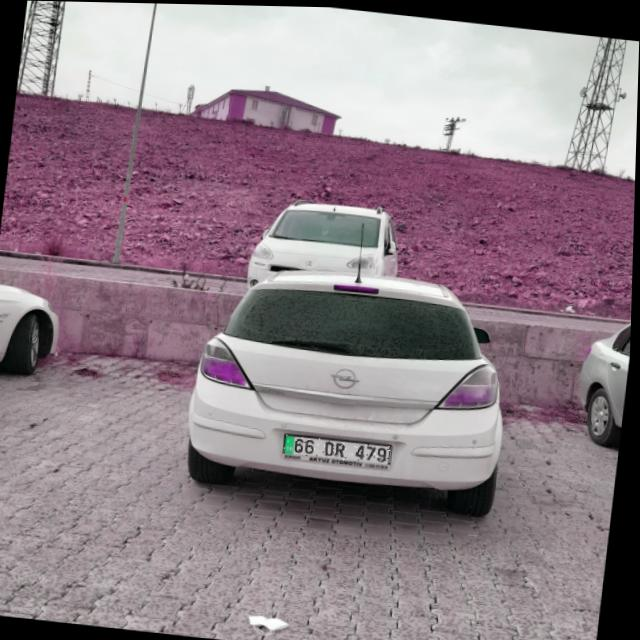license_plate: (285, 433, 394, 463)
